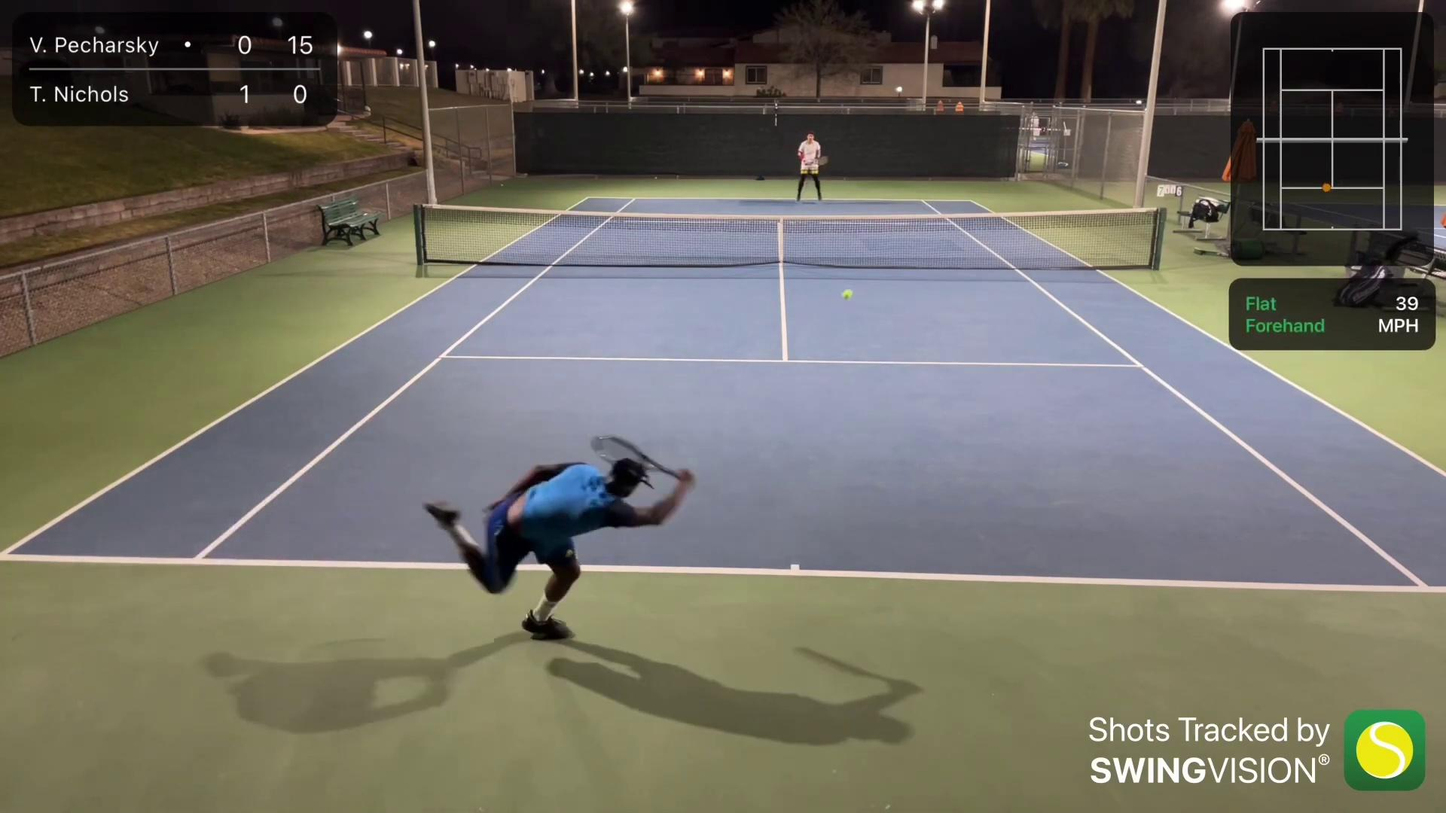ball: (838, 287, 859, 301)
